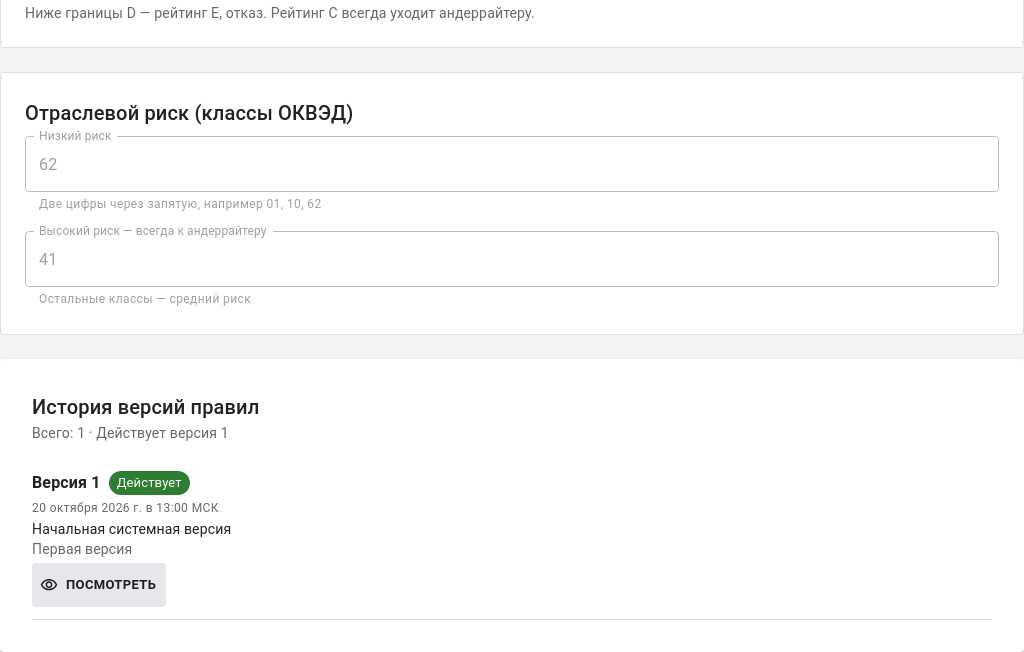
Scenario: version editors › opens a rule snapshot read only for a manager
(page scrolled)
What coordinates should you click on to do the following:
click the button with aria-label "Посмотреть версию 1"
I would click on:
 (99, 585)
Its box is [32, 563, 166, 607].
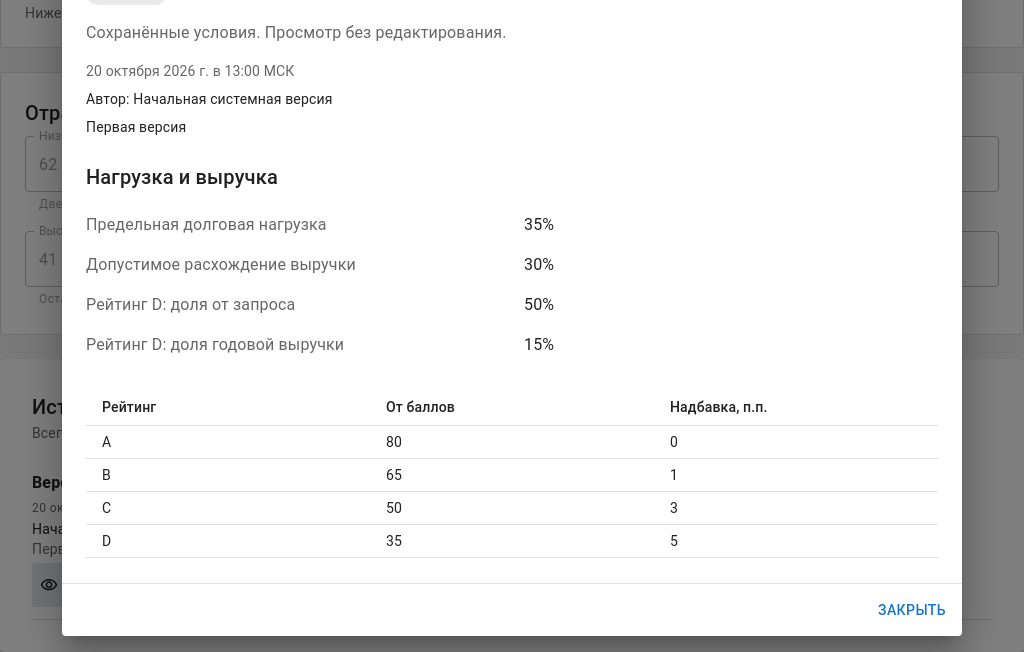
Result: the text "Сохранённые условия. Просмотр без редактирования." is shown at [86, 23, 507, 42]
